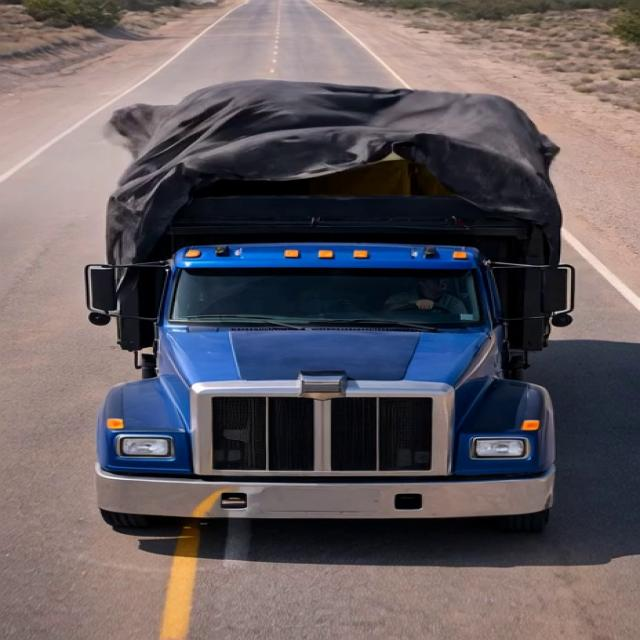trailer: (109, 77, 546, 207)
truck: (80, 65, 574, 549)
